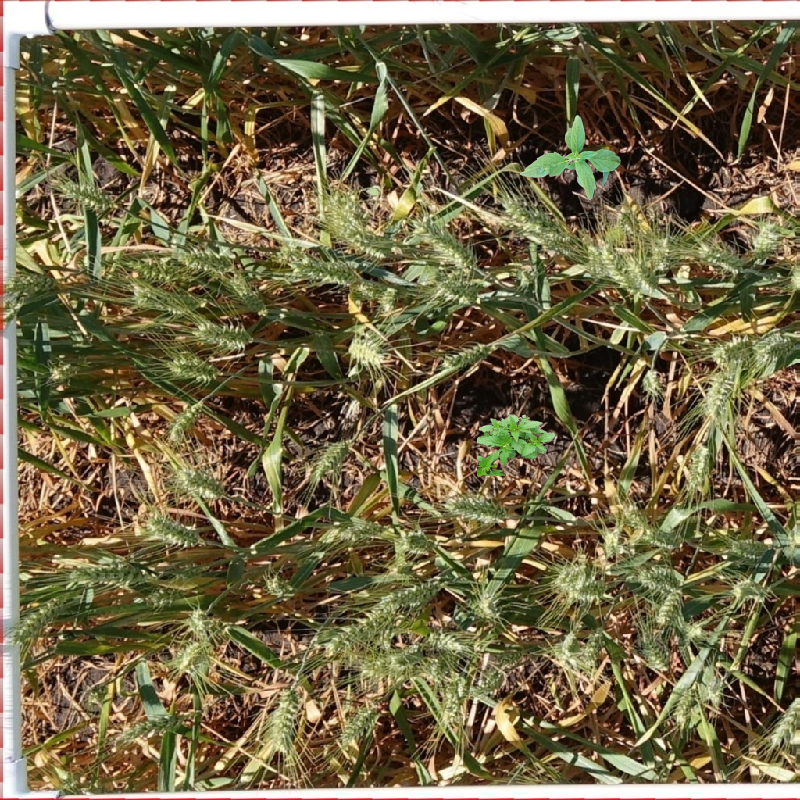spikelet: (495, 191, 580, 256), (410, 210, 481, 270), (320, 602, 397, 655), (589, 238, 644, 299), (263, 684, 304, 756), (286, 250, 362, 287), (65, 556, 150, 589), (549, 559, 608, 604), (698, 364, 740, 425), (375, 575, 444, 612), (129, 283, 206, 316), (52, 176, 117, 214), (140, 509, 203, 548), (441, 489, 508, 525), (433, 669, 471, 731), (9, 597, 59, 644), (355, 646, 416, 684), (322, 513, 386, 548), (175, 241, 237, 277), (191, 317, 252, 351), (173, 463, 227, 501), (224, 271, 270, 315), (165, 349, 221, 385), (629, 559, 685, 595), (437, 339, 496, 373), (634, 622, 673, 673), (132, 253, 193, 285), (163, 397, 205, 443), (336, 703, 377, 750), (173, 636, 216, 680), (766, 692, 799, 749), (431, 271, 486, 305), (753, 327, 800, 366), (695, 238, 744, 275), (745, 215, 784, 261), (310, 436, 353, 477), (5, 268, 56, 302), (649, 584, 687, 629), (345, 330, 388, 369), (682, 441, 714, 493), (574, 626, 610, 672), (134, 582, 191, 611), (722, 534, 771, 566), (710, 333, 755, 367), (465, 587, 506, 624), (668, 682, 700, 728), (425, 627, 473, 657), (615, 498, 652, 535), (183, 603, 222, 638), (472, 663, 506, 702), (729, 573, 770, 605), (639, 523, 684, 551), (646, 232, 677, 272), (45, 353, 83, 385), (395, 527, 436, 556), (699, 665, 727, 706), (418, 653, 453, 685), (262, 570, 297, 601), (597, 524, 628, 558), (79, 681, 109, 714), (638, 365, 664, 399), (375, 283, 400, 318), (351, 277, 382, 302)
weed: (520, 115, 621, 201), (477, 414, 556, 476)
